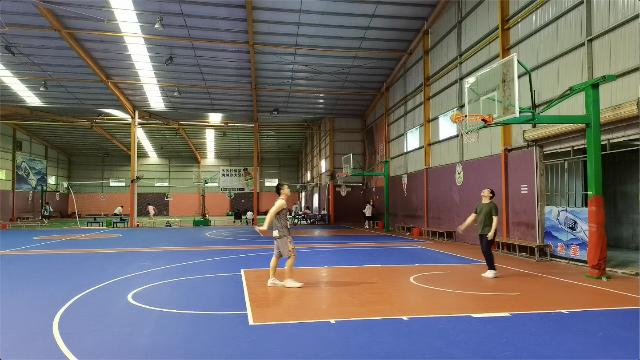ball: (450, 111, 462, 124)
basket: (454, 113, 482, 142)
